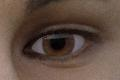eye: (44, 32, 75, 56)
